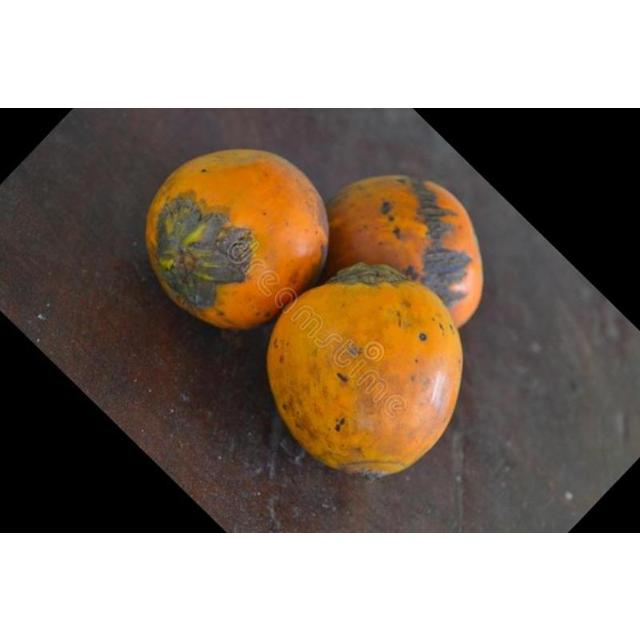good: (270, 262, 464, 473), (146, 148, 330, 328), (322, 174, 480, 330)
